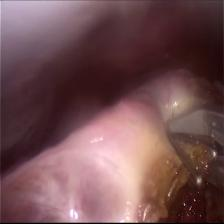Clipper: (163, 105, 224, 186)
